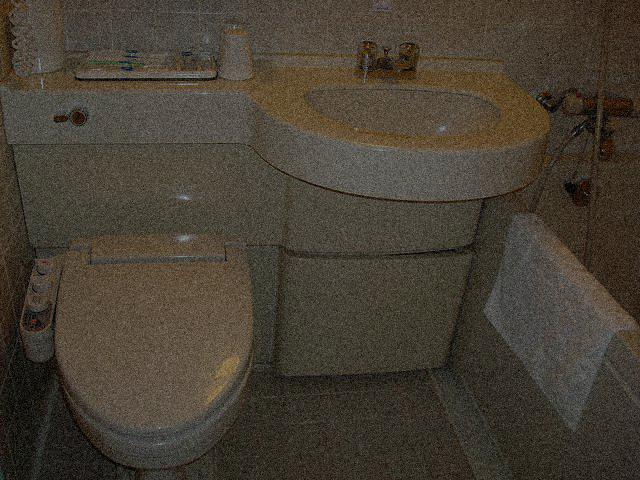Lavamanos: (267, 38, 547, 189)
Sanitario: (53, 224, 262, 474)
